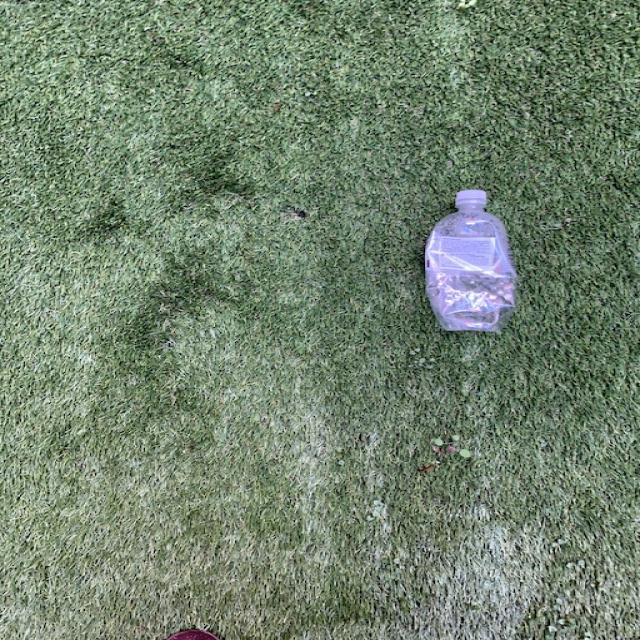litter: (424, 187, 525, 336)
